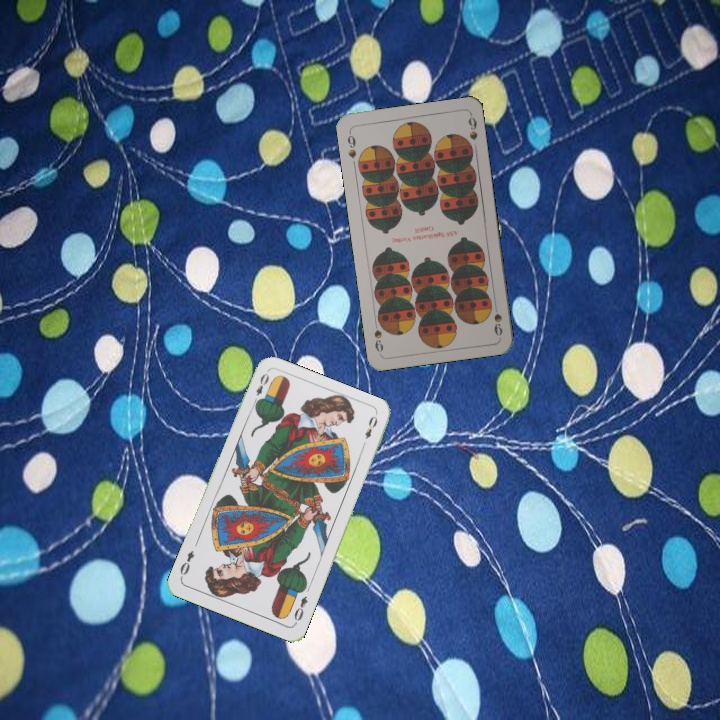EO: (249, 369, 272, 408), (290, 592, 310, 627)
S9: (485, 298, 505, 338), (343, 127, 359, 161)
